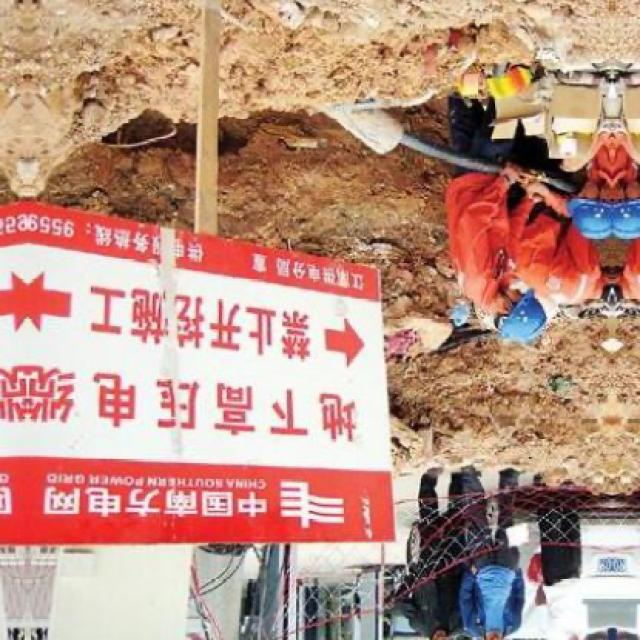con casco: (475, 266, 555, 345)
